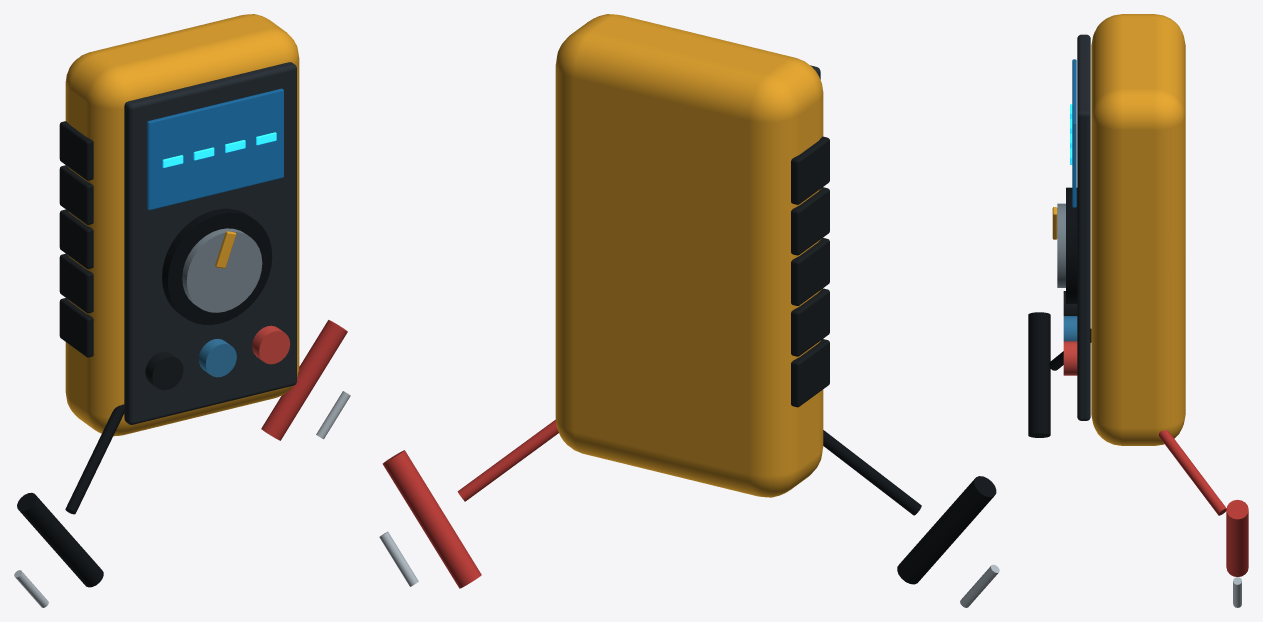
File: digital-multimeter.glb
3 renders of one model, left to right at view 1: azimuth 30°, elevation 25°; view 2: azimuth 150°, elevation 25°; view 3: azimuth 270°, elevation 25°, orthographic. The views are drawn at different scales.
Visible parts, largest first — view 1: Meter face, Protective meter shell, Professional digital multimeter, Backlit LCD, Test probe (×2), Selector dial, Probe jack (×3); view 2: Protective meter shell, Professional digital multimeter, Test probe (×2); view 3: Protective meter shell, Meter face, Test probe (×2), Professional digital multimeter, Selector dial, Probe jack (×2), Backlit LCD.
Part boxes in pixels (bbox=[...]): Meter face: bbox=[124, 62, 296, 424]; Protective meter shell: bbox=[65, 14, 299, 436]; Professional digital multimeter: bbox=[14, 121, 350, 607]; Backlit LCD: bbox=[147, 88, 283, 210]; Test probe (×2): bbox=[17, 320, 347, 587]; Selector dial: bbox=[162, 208, 272, 324]; Probe jack (×3): bbox=[145, 325, 290, 390]; Protective meter shell: bbox=[555, 14, 823, 497]; Professional digital multimeter: bbox=[379, 136, 999, 607]; Test probe (×2): bbox=[382, 450, 996, 588]; Protective meter shell: bbox=[1091, 14, 1185, 445]; Meter face: bbox=[1077, 34, 1090, 420]; Test probe (×2): bbox=[1028, 312, 1248, 576]; Professional digital multimeter: bbox=[1049, 104, 1241, 607]; Selector dial: bbox=[1066, 187, 1077, 303]; Probe jack (×2): bbox=[1063, 316, 1077, 375]; Backlit LCD: bbox=[1072, 59, 1076, 207].
Bounding box in the file's own units: 1.97 × 2.07 × 0.89.
